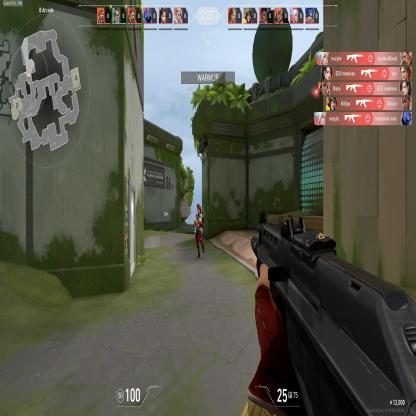enemy: (193, 202, 207, 258)
